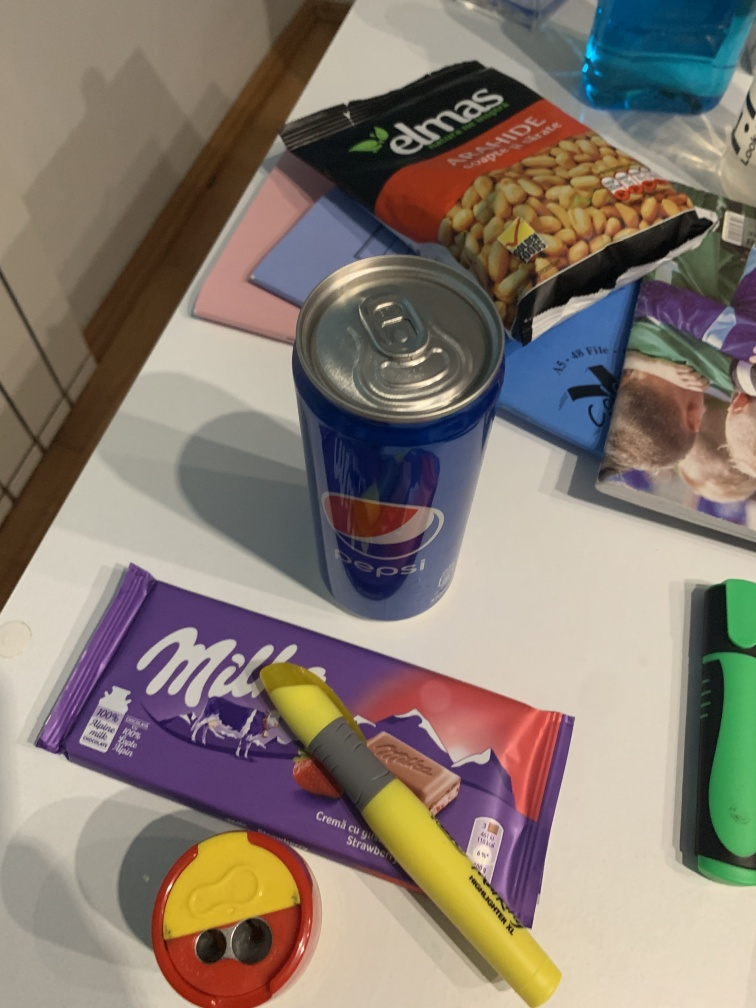milka: (34, 564, 575, 931)
peanuts: (280, 52, 724, 344)
pepsi: (287, 251, 513, 625)
